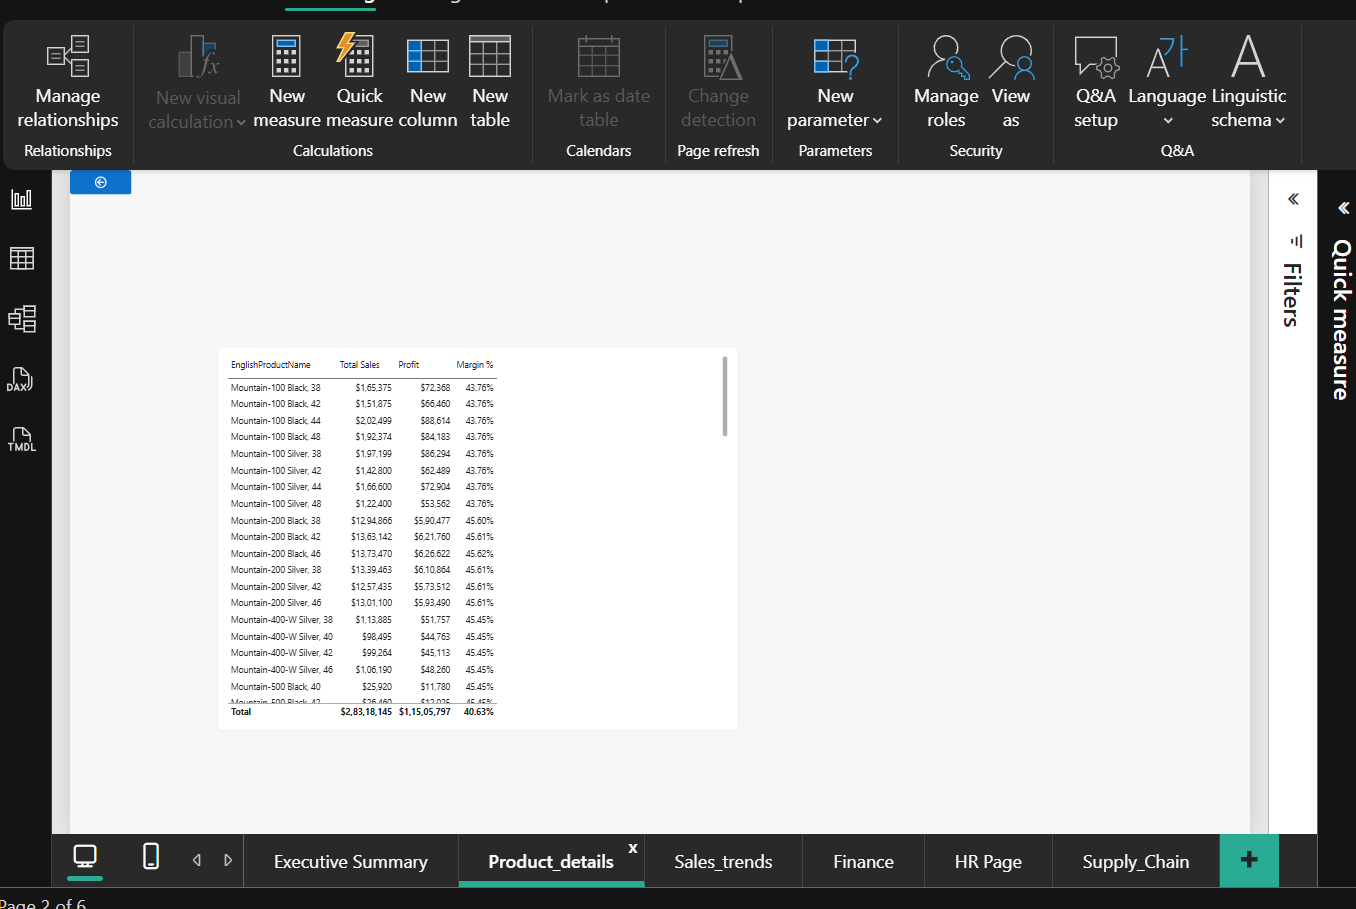

The dashboard page shown, as its layout file describes it:
{"tool":"powerbi","page":{"name":"Product_details","canvas":[1920,1080],"ordinal":1},"visuals":[{"type":"actionButton","box":[0,0,100,40],"z":0},{"type":"tableEx","fields":{"Values":["Product.EnglishProductName","Sales.Total Sales","Sales.Profit","Sales.Margin %"]},"box":[240,288,848,624],"z":1000}]}

Visuals, with their boxes on the page's 1920x1080 design canvas (x1, y1, x2, y2). These are canvas units, not pixel positions in the 1356x909 screenshot, which may show the page scaled, cropped or inside an application window:
actionButton: rect(0, 0, 100, 40)
tableEx - Product.EnglishProductName x Sales.Total Sales: rect(240, 288, 1088, 912)
